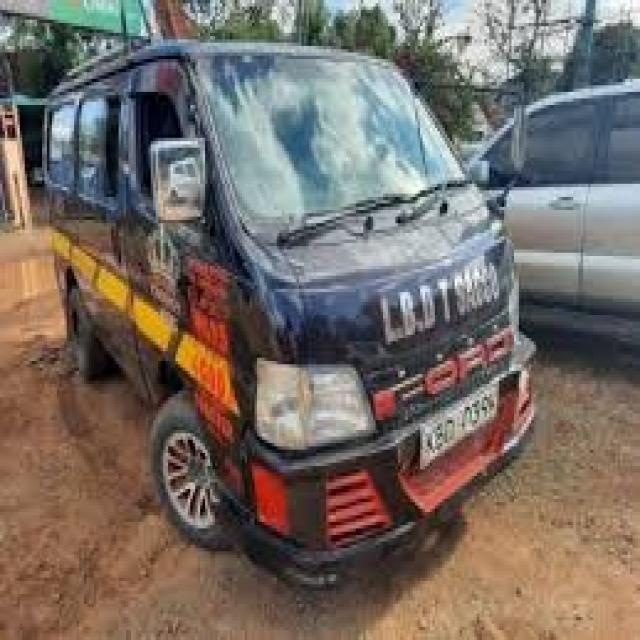matatu: (29, 9, 571, 596)
